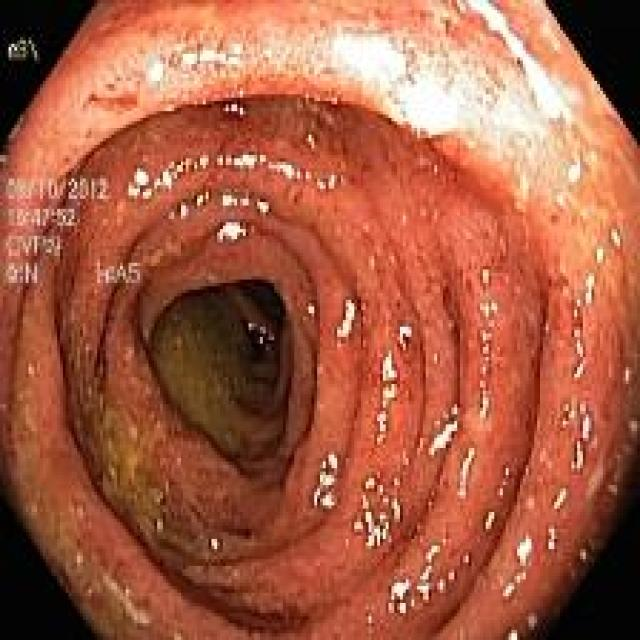ulcerative-colitis-grade-3: (0, 3, 639, 637)
